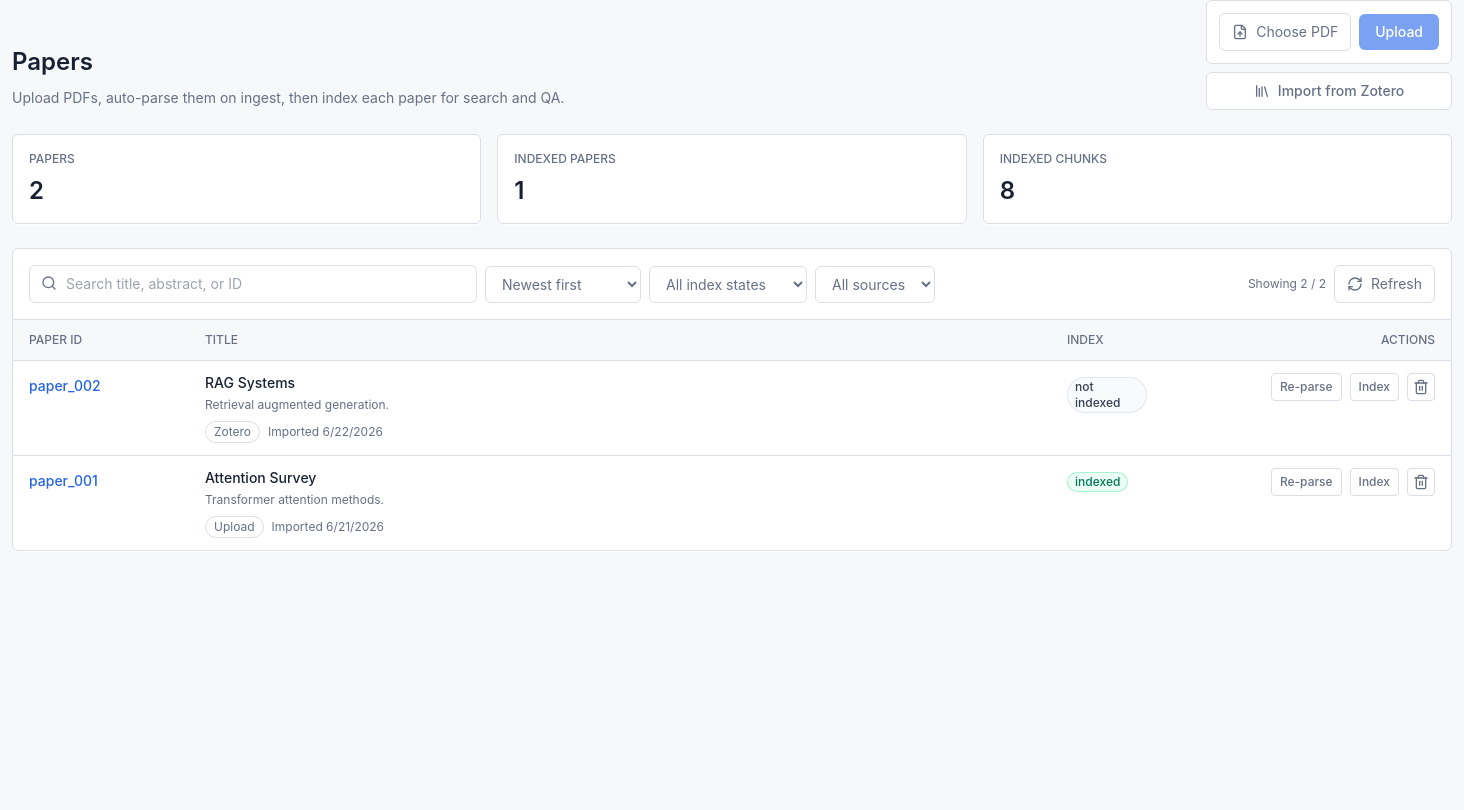
it: PapersPage › filters papers by index state and source
Expected: the text "Attention Survey" is shown, [205, 469, 316, 486]
Select "Not indexed only" in the dropdown named "Filter by index status": (728, 284) [649, 266, 807, 302]
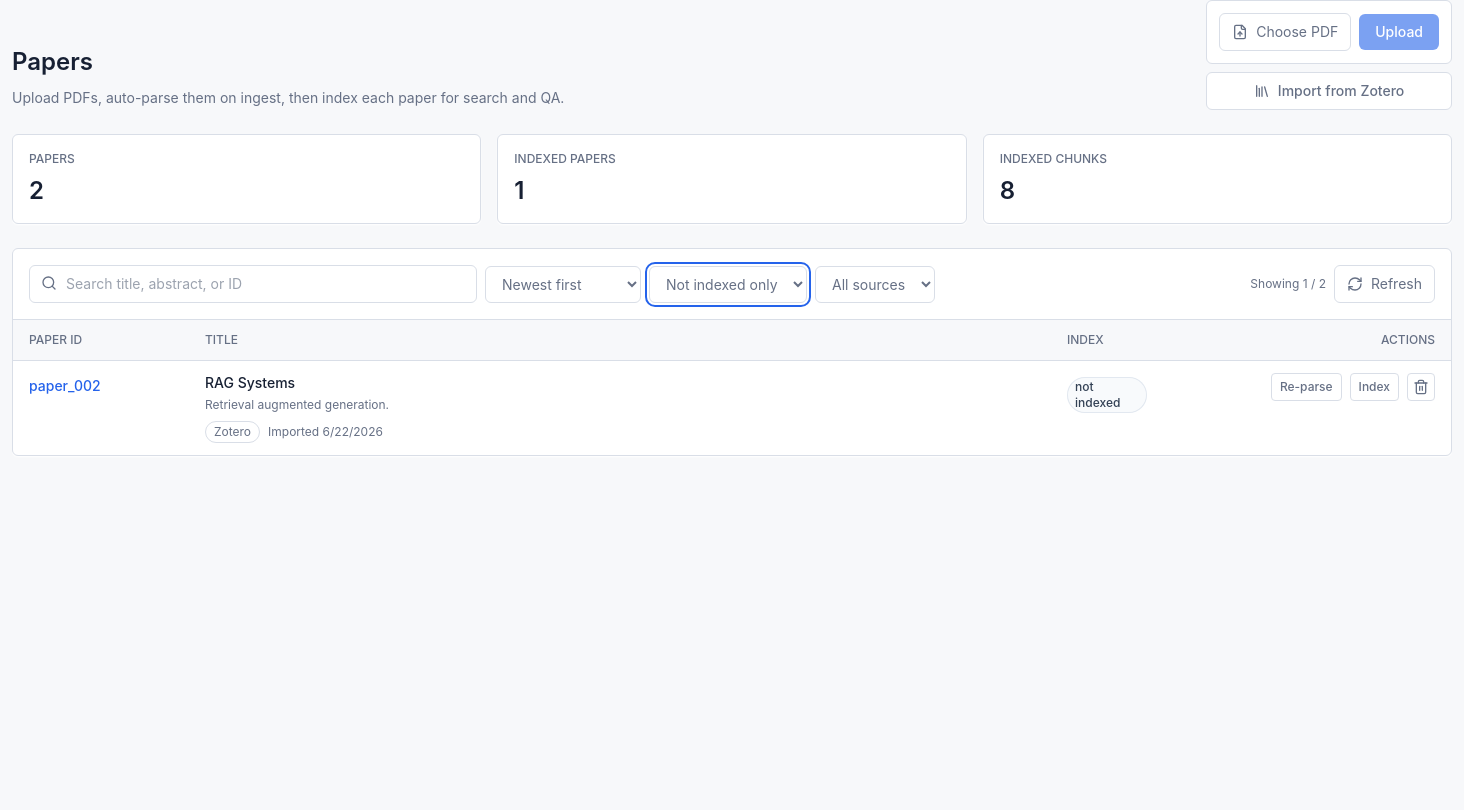
Expected: the text "RAG Systems" is shown, [205, 374, 295, 391]
Result: the text "Attention Survey" is gone
Select "Uploaded" in the dropdown named "Filter by source": (875, 284) [815, 266, 935, 302]
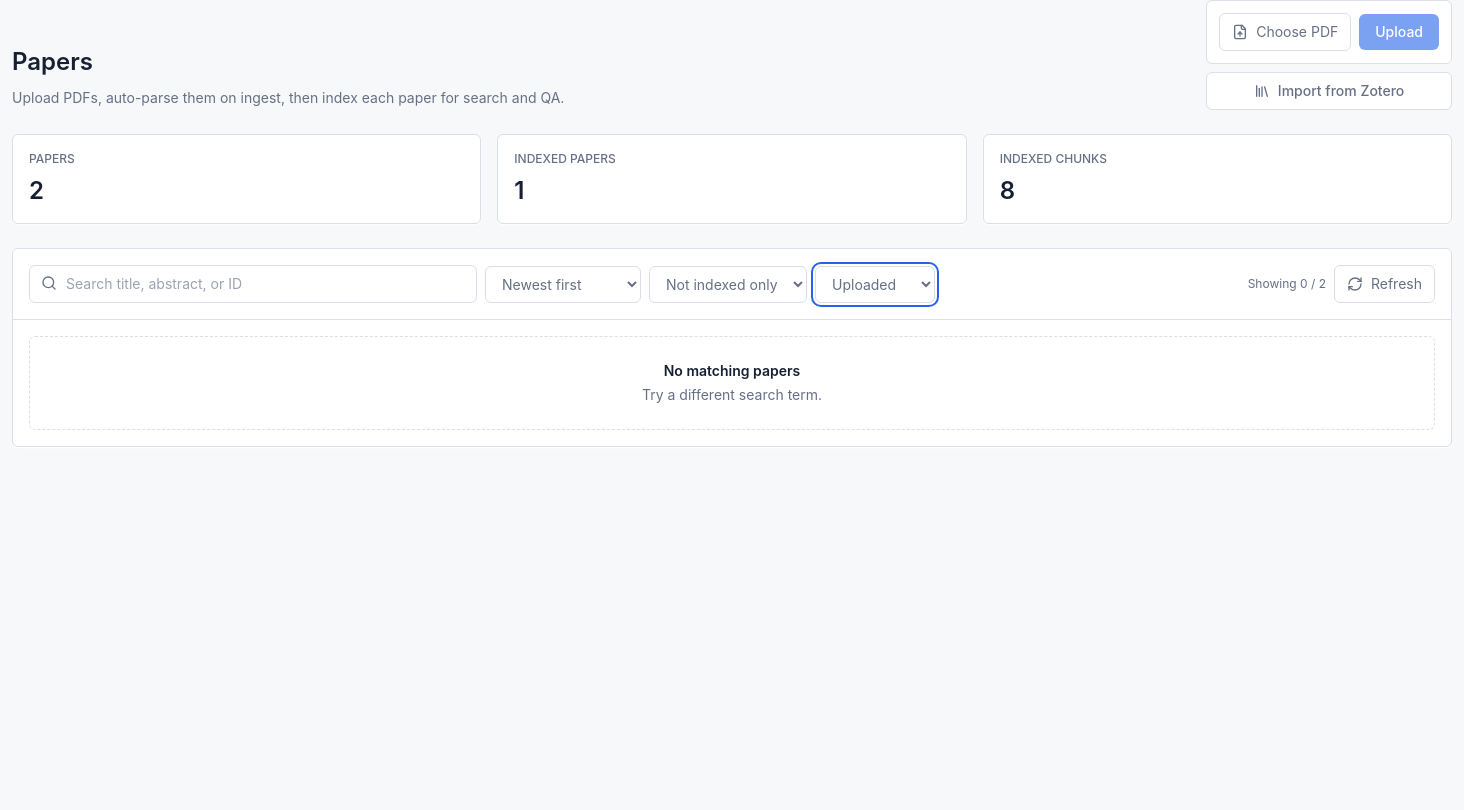
Result: the heading "No matching papers" is shown at [664, 362, 800, 379]
